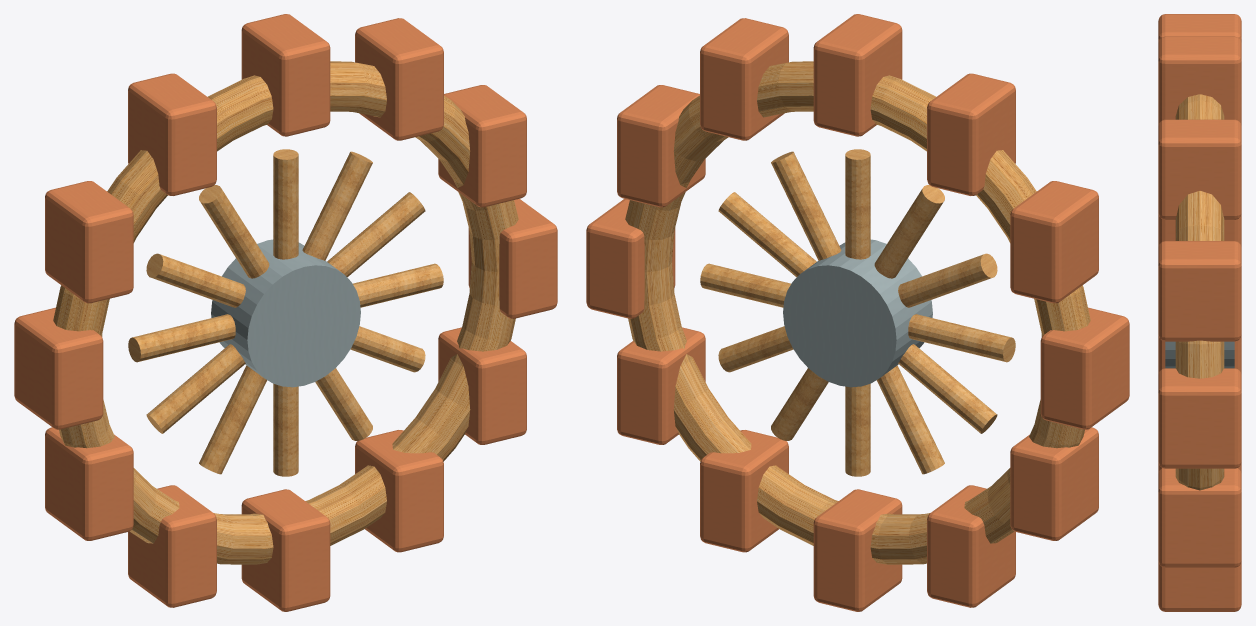
The model's file is water_wheel.glb.
The picture shows the model from 3 angles, left to right: view 1: azimuth 30°, elevation 25°; view 2: azimuth 150°, elevation 25°; view 3: azimuth 270°, elevation 25°; orthographic projection. The views are drawn at different scales.
Parts seen in each view (by area): view 1: Wheel_Rim, Wheel_Hub, Water_Paddle.005, Water_Paddle.006, Water_Paddle.004, Water_Paddle.003, Water_Paddle.007, Water_Paddle.009, Water_Paddle.002, Water_Paddle.008, Water_Paddle.010, Water_Paddle.001 (+14 smaller); view 2: Wheel_Rim, Wheel_Hub, Water_Paddle.005, Water_Paddle.006, Water_Paddle.004, Water_Paddle.003, Water_Paddle.007, Water_Paddle.009, Water_Paddle.002, Water_Paddle.008, Water_Paddle.010, Water_Paddle.001 (+14 smaller); view 3: Water_Paddle.001, Water_Paddle, Water_Paddle.011, Water_Paddle.002, Water_Paddle.003, Wheel_Rim, Water_Paddle.010, Water_Paddle.004, Water_Paddle.006, Wheel_Hub, Water_Paddle.007.
Boxes of the visible parts, x1,y1,x2,y2 form: Wheel_Rim: [53, 61, 518, 564]; Wheel_Hub: [211, 239, 360, 387]; Water_Paddle.005: [45, 181, 133, 303]; Water_Paddle.006: [14, 307, 103, 429]; Water_Paddle.004: [128, 73, 216, 195]; Water_Paddle.003: [241, 14, 330, 136]; Water_Paddle.007: [45, 427, 133, 540]; Water_Paddle.009: [241, 489, 330, 611]; Water_Paddle.002: [355, 18, 443, 140]; Water_Paddle.008: [128, 485, 216, 607]; Water_Paddle.010: [355, 430, 443, 552]; Water_Paddle.001: [438, 85, 526, 207]; Wheel_Rim: [625, 61, 1090, 564]; Wheel_Hub: [783, 239, 932, 387]; Water_Paddle.005: [1010, 181, 1098, 303]; Water_Paddle.006: [1040, 307, 1129, 429]; Water_Paddle.004: [927, 73, 1015, 195]; Water_Paddle.003: [813, 14, 902, 136]; Water_Paddle.007: [1010, 427, 1098, 540]; Water_Paddle.009: [813, 489, 902, 611]; Water_Paddle.002: [700, 18, 788, 140]; Water_Paddle.008: [927, 485, 1015, 607]; Water_Paddle.010: [700, 430, 788, 552]; Water_Paddle.001: [617, 85, 705, 207]; Water_Paddle.001: [1158, 241, 1241, 341]; Water_Paddle: [1158, 368, 1241, 468]; Water_Paddle.011: [1158, 468, 1241, 567]; Water_Paddle.002: [1158, 119, 1241, 219]; Water_Paddle.003: [1158, 36, 1241, 125]; Wheel_Rim: [1175, 94, 1224, 490]; Water_Paddle.010: [1158, 561, 1241, 611]; Water_Paddle.004: [1158, 14, 1241, 42]; Water_Paddle.006: [1158, 214, 1241, 246]; Wheel_Hub: [1165, 341, 1234, 368]; Water_Paddle.007: [1158, 335, 1241, 374].
Bounding box in the file's own units: 1.6 × 1.7 × 0.24.
Materials: 4 (4 with a texture image).
